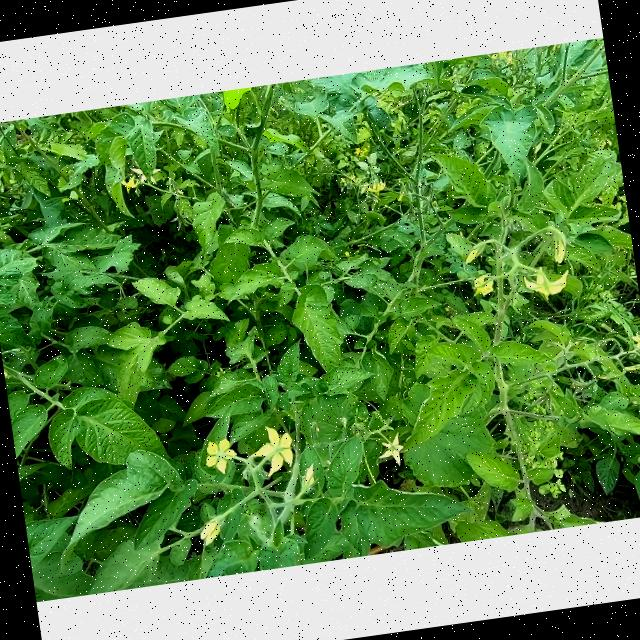Flowers: (244, 421, 298, 479), (520, 260, 572, 306), (203, 437, 239, 477), (194, 513, 230, 551), (376, 432, 407, 468), (547, 226, 573, 266), (470, 272, 498, 298), (461, 245, 488, 268), (361, 177, 389, 197), (491, 51, 514, 68), (121, 176, 140, 194), (302, 464, 316, 486), (340, 173, 363, 185), (353, 146, 369, 158), (599, 138, 613, 150)
